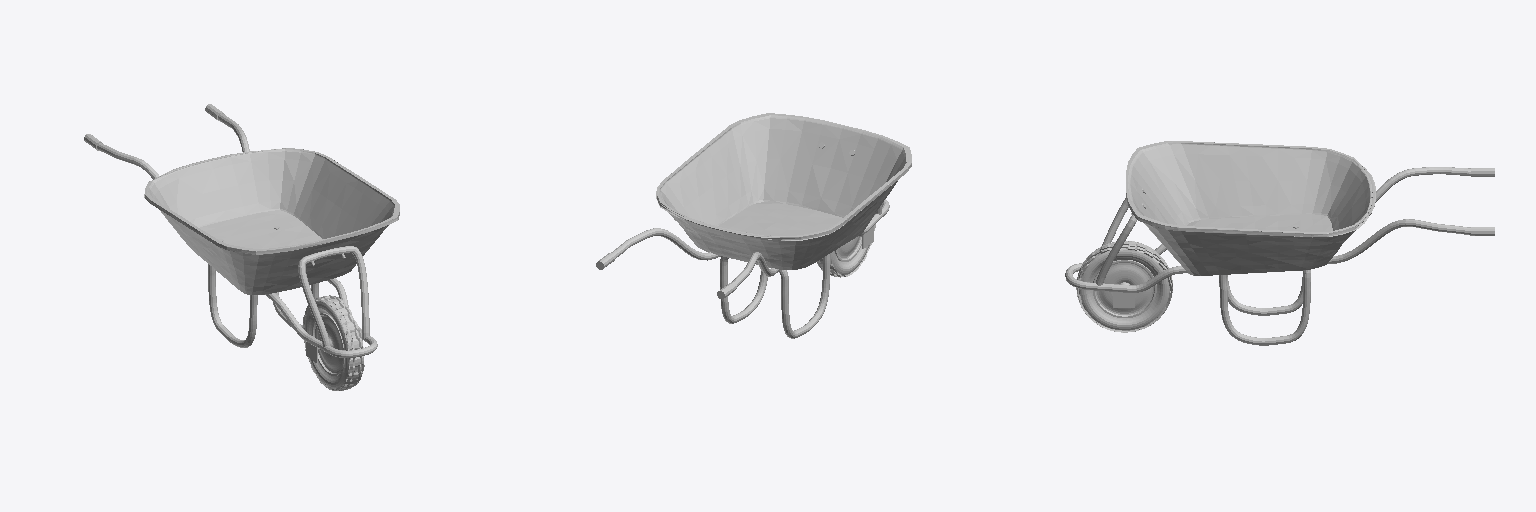
Rendered from wheelbarrow bl internal.obj.
3 views of the same model, side by side, from view 1: azimuth 30°, elevation 25°; view 2: azimuth 150°, elevation 25°; view 3: azimuth 270°, elevation 25° (orthographic).
Parts seen in each view (by area): view 1: Cube, BezierCurve_Mesh, Circle; view 2: Cube, BezierCurve_Mesh, Circle; view 3: Cube, BezierCurve_Mesh, Circle.
Part boxes in pixels (x1,y1,x2,y2): Cube: (144,148,399,294); BezierCurve_Mesh: (84,104,377,357); Circle: (303,295,364,390); Cube: (656,113,911,269); BezierCurve_Mesh: (596,199,889,338); Circle: (817,224,875,277); Cube: (1126,141,1375,275); BezierCurve_Mesh: (1065,167,1494,345); Circle: (1076,241,1172,332).
Size of the model in its own units: 5.74 by 4.57 by 11.96.